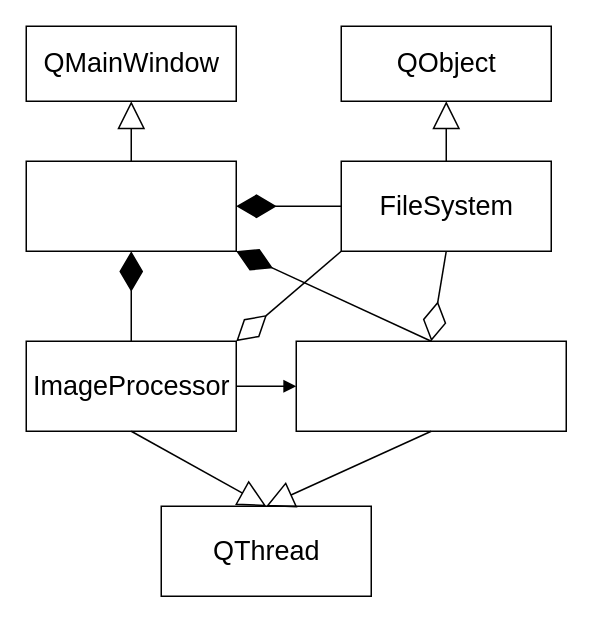
This 593x623 diagram has some shape labels left out. The box of each missing label's shape, as (x1, y1, x2, y2) in pixels:
CalibrationProcessor: (295, 340, 566, 431)
ControlWindow: (25, 160, 236, 251)
